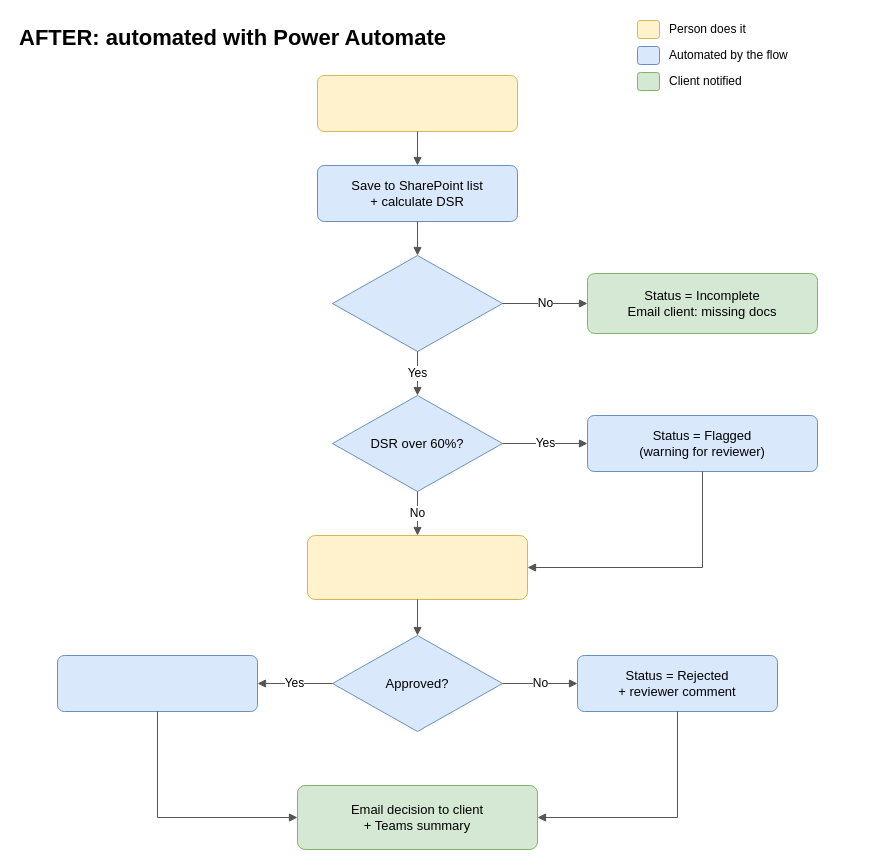
Image size: 884x867. Some labels were removed from this diagram. The shapes that lost their labels are listed below. From the top down, each one's centre as x and y in pixels, then its label:
the point at 417,103: Client submits Microsoft Form
the point at 417,303: All 4 documents provided?
the point at 417,567: Reviewer approves or rejects in Teams / Outlook
the point at 157,683: Status = Approved + reviewer comment
